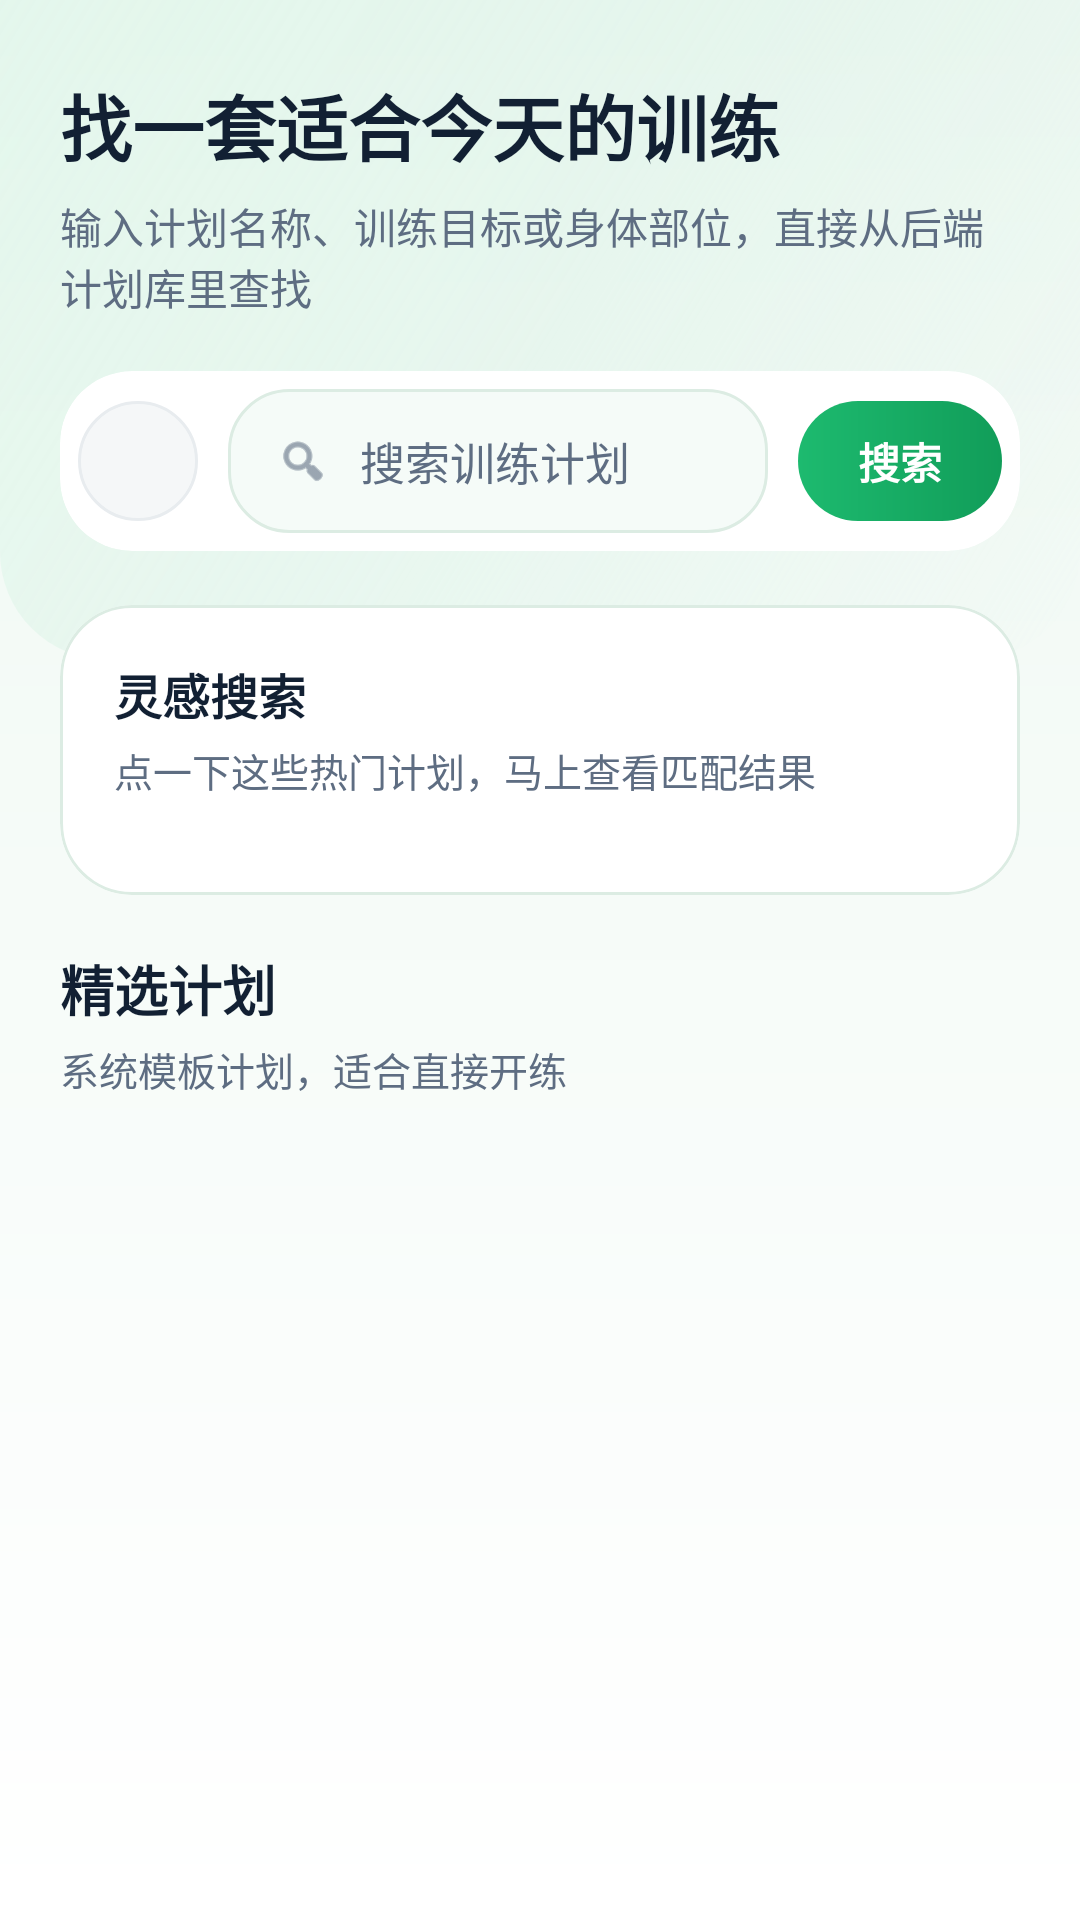

Locate icon controls on the screen. Image size 1080*1920, boxes as BBox(x1, y1, x2, y2).
搜索图标: BBox(283, 441, 323, 481)
